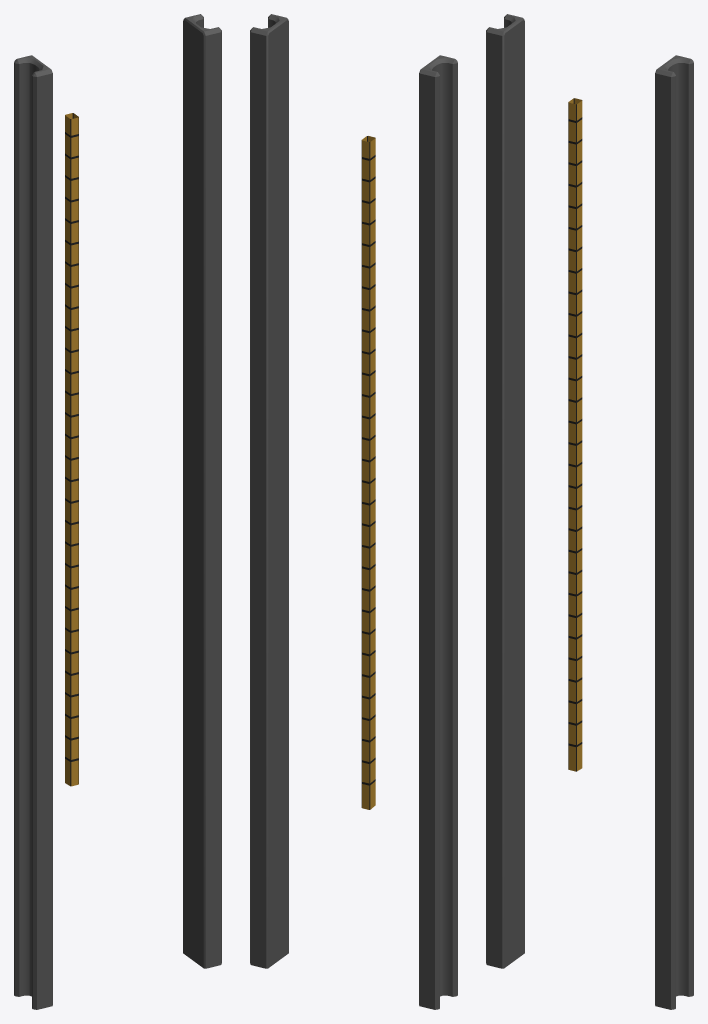
The model's file is mast_3.glb.
3 renders of one model, left to right at view 1: azimuth 30°, elevation 25°; view 2: azimuth 150°, elevation 25°; view 3: azimuth 330°, elevation 25°, orthographic.
Visible parts, largest first — view 1: CHAINSYSTEM_3, CHAINSYSTEM_3.001; view 2: CHAINSYSTEM_3, CHAINSYSTEM_3.001; view 3: CHAINSYSTEM_3, CHAINSYSTEM_3.001.
Boxes of the visible parts, x1,y1,x2,y2 form: CHAINSYSTEM_3: (14, 14, 221, 1009); CHAINSYSTEM_3.001: (65, 113, 78, 786); CHAINSYSTEM_3: (250, 14, 457, 1009); CHAINSYSTEM_3.001: (361, 136, 375, 809); CHAINSYSTEM_3: (486, 14, 693, 1009); CHAINSYSTEM_3.001: (568, 98, 582, 771).
Size of the model in its own units: 0.5199 by 2.46 by 0.1425.
Materials: 1 (1 with a texture image).
